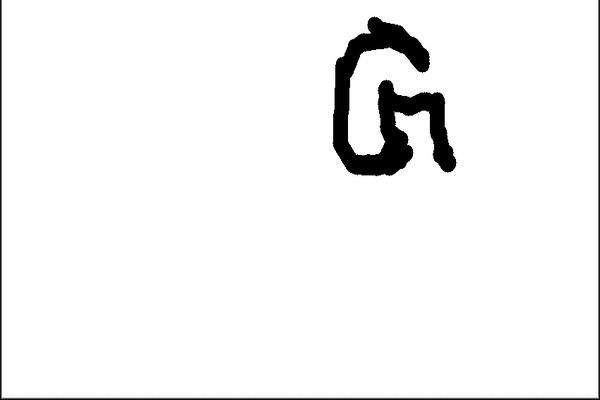G: (326, 13, 461, 181)
